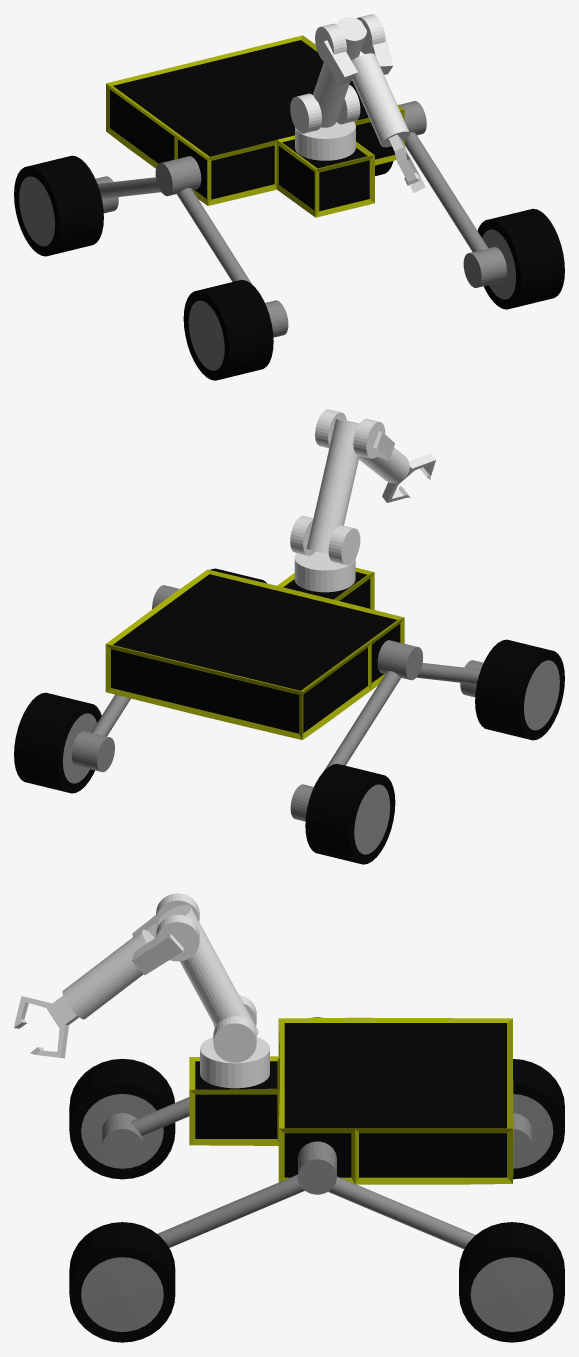
File: Rover.fbx
3 renders of one model, top to bottom at view 1: azimuth 30°, elevation 25°; view 2: azimuth 150°, elevation 25°; view 3: azimuth 270°, elevation 25°, orthographic. The views are drawn at different scales.
Visible parts, largest first — view 1: Body, Wheel FR, Wheel BR, Wheel FL, Chasis, RightWheels, LeftWheels, Cylinder.004, Cylinder.003, Cylinder, Cylinder.002, Cube (+5 smaller); view 2: Body, Wheel BR, Wheel FR, Chasis, Wheel BL, RightWheels, Cylinder.003, LeftWheels, Cylinder, Cylinder.002, Cylinder.004, Cylinder.005 (+3 smaller); view 3: Body, Wheel FL, Wheel BL, Wheel FR, Chasis, LeftWheels, Wheel BR, RightWheels, Cylinder.003, Cylinder.004, Cylinder, Cylinder.001 (+4 smaller).
Boxes of the visible parts, bbox=[...] form: Body: bbox=[110, 40, 395, 211]; Wheel FR: bbox=[183, 280, 273, 380]; Wheel BR: bbox=[14, 155, 103, 256]; Wheel FL: bbox=[477, 208, 564, 309]; Chasis: bbox=[106, 35, 404, 217]; RightWheels: bbox=[95, 156, 288, 337]; LeftWheels: bbox=[398, 101, 506, 287]; Cylinder.004: bbox=[351, 53, 409, 147]; Cylinder.003: bbox=[313, 17, 366, 127]; Cylinder: bbox=[295, 121, 355, 160]; Cylinder.002: bbox=[290, 93, 321, 133]; Cube: bbox=[318, 40, 357, 85]; Body: bbox=[111, 572, 400, 733]; Wheel BR: bbox=[305, 763, 395, 864]; Wheel FR: bbox=[475, 639, 564, 740]; Chasis: bbox=[105, 567, 404, 739]; Wheel BL: bbox=[14, 692, 101, 793]; RightWheels: bbox=[290, 640, 483, 821]; Cylinder.003: bbox=[306, 418, 359, 553]; LeftWheels: bbox=[71, 585, 179, 772]; Cylinder: bbox=[294, 551, 355, 592]; Cylinder.002: bbox=[328, 525, 360, 565]; Cylinder.004: bbox=[359, 447, 409, 483]; Cylinder.005: bbox=[353, 418, 385, 458]; Body: bbox=[195, 1023, 506, 1177]; Wheel FL: bbox=[69, 1222, 175, 1342]; Wheel BL: bbox=[459, 1222, 564, 1342]; Wheel FR: bbox=[69, 1058, 175, 1179]; Chasis: bbox=[189, 1017, 513, 1184]; LeftWheels: bbox=[157, 1141, 475, 1249]; Wheel BR: bbox=[513, 1059, 564, 1179]; RightWheels: bbox=[102, 1017, 532, 1166]; Cylinder.003: bbox=[159, 904, 258, 1036]; Cylinder.004: bbox=[62, 929, 154, 1019]; Cylinder: bbox=[200, 1037, 269, 1088]; Cylinder.001: bbox=[213, 1016, 256, 1062].
Bounding box in the file's own units: 124 × 105 × 153.
